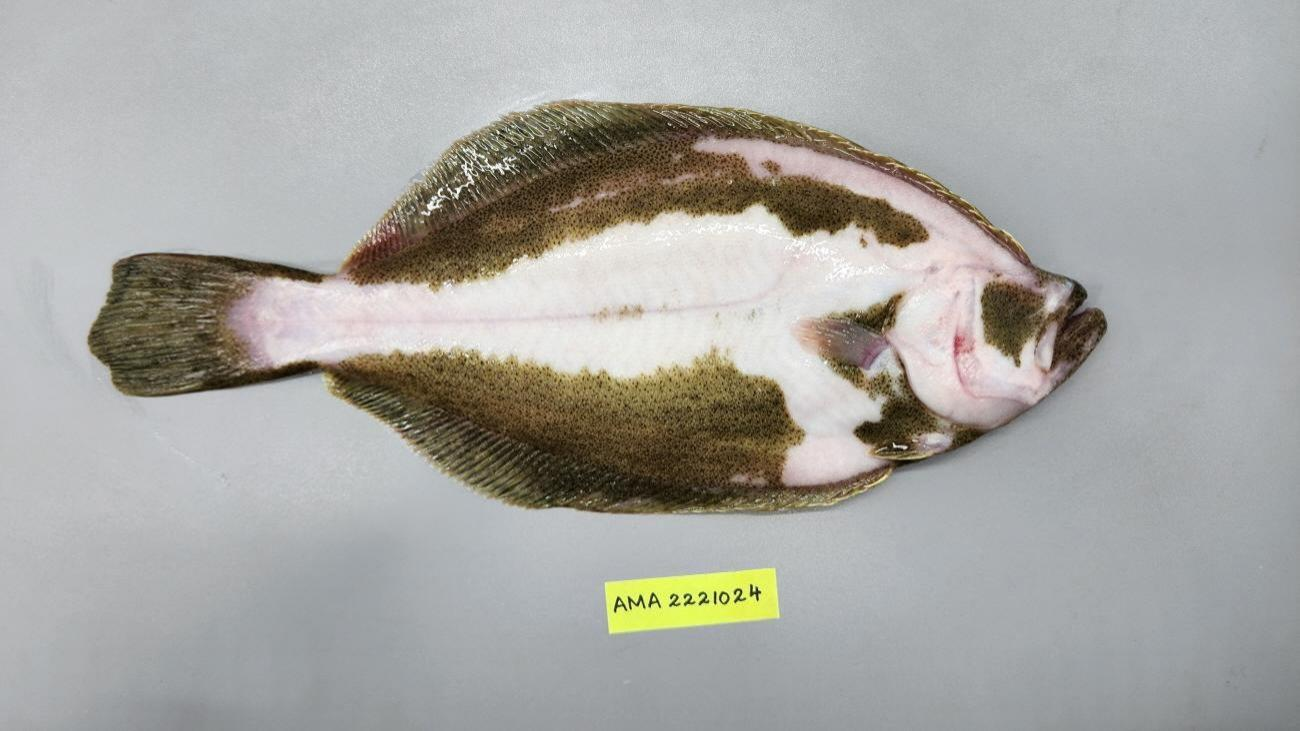MAFCH: (112, 255, 258, 286)
MAOUY: (88, 99, 1107, 516)
